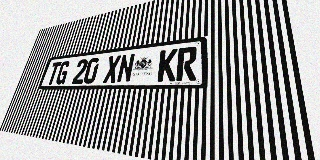0: (82, 57, 100, 84)
2: (72, 59, 89, 84)
G: (55, 61, 71, 85)
K: (157, 48, 178, 82)
N: (116, 53, 135, 83)
R: (176, 46, 197, 81)
T: (46, 62, 62, 85)
X: (103, 55, 121, 83)
